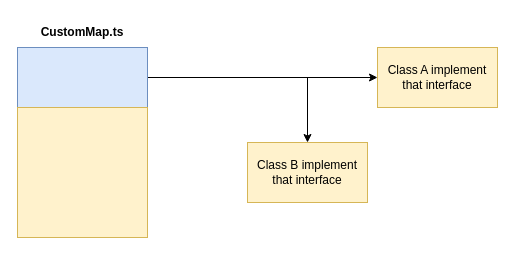
This 515x255 diagram has some shape labels left out. Here are the shapes that lost their labels. From the top down, the box of each, then its label:
(16, 46, 148, 108): interface Mappable
(16, 106, 148, 238): class CustomMap { foo (mappable: Mappable) }
